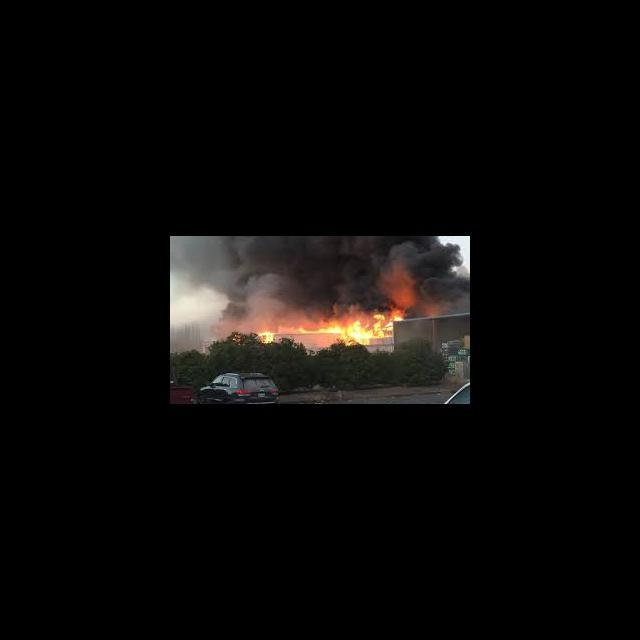Fire: (299, 320, 395, 344), (256, 331, 274, 344), (392, 313, 403, 321), (374, 314, 385, 320)
